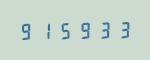five: (56, 20, 74, 40)
nine: (17, 20, 35, 40), (75, 20, 93, 39)
one: (36, 20, 54, 40)
three: (94, 19, 112, 39), (113, 19, 131, 39)
